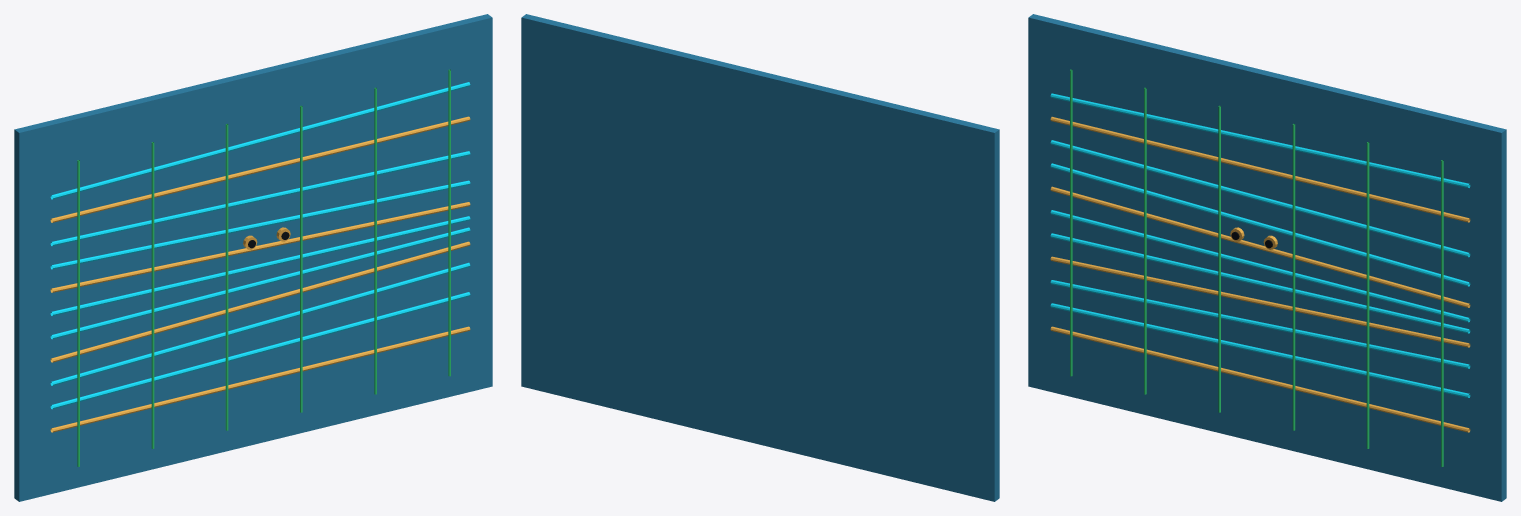
Rendered from 09_L92_SubsurfaceTomographyProjection.fbx.
3 renders of one model, left to right at view 1: azimuth 30°, elevation 25°; view 2: azimuth 150°, elevation 25°; view 3: azimuth 330°, elevation 25°, orthographic.
Parts seen in each view (by area): view 1: L92_SubsurfaceTomographyProjection_Part_0000, L92_SubsurfaceTomographyProjection_Part_0002, L92_SubsurfaceTomographyProjection_Part_0001, L92_SubsurfaceTomographyProjection_Part_0003; view 2: L92_SubsurfaceTomographyProjection_Part_0000; view 3: L92_SubsurfaceTomographyProjection_Part_0000, L92_SubsurfaceTomographyProjection_Part_0002, L92_SubsurfaceTomographyProjection_Part_0001, L92_SubsurfaceTomographyProjection_Part_0003.
Part boxes in pixels (x1=…): L92_SubsurfaceTomographyProjection_Part_0000: x1=14, y1=14, x2=492, y2=501; L92_SubsurfaceTomographyProjection_Part_0002: x1=50, y1=82, x2=470, y2=409; L92_SubsurfaceTomographyProjection_Part_0001: x1=50, y1=116, x2=470, y2=432; L92_SubsurfaceTomographyProjection_Part_0003: x1=77, y1=69, x2=450, y2=466; L92_SubsurfaceTomographyProjection_Part_0000: x1=521, y1=14, x2=999, y2=501; L92_SubsurfaceTomographyProjection_Part_0000: x1=1028, y1=14, x2=1506, y2=501; L92_SubsurfaceTomographyProjection_Part_0002: x1=1050, y1=93, x2=1470, y2=397; L92_SubsurfaceTomographyProjection_Part_0001: x1=1050, y1=116, x2=1470, y2=432; L92_SubsurfaceTomographyProjection_Part_0003: x1=1070, y1=69, x2=1443, y2=466.
Size of the model in its own units: 510 by 380 by 33.7.
